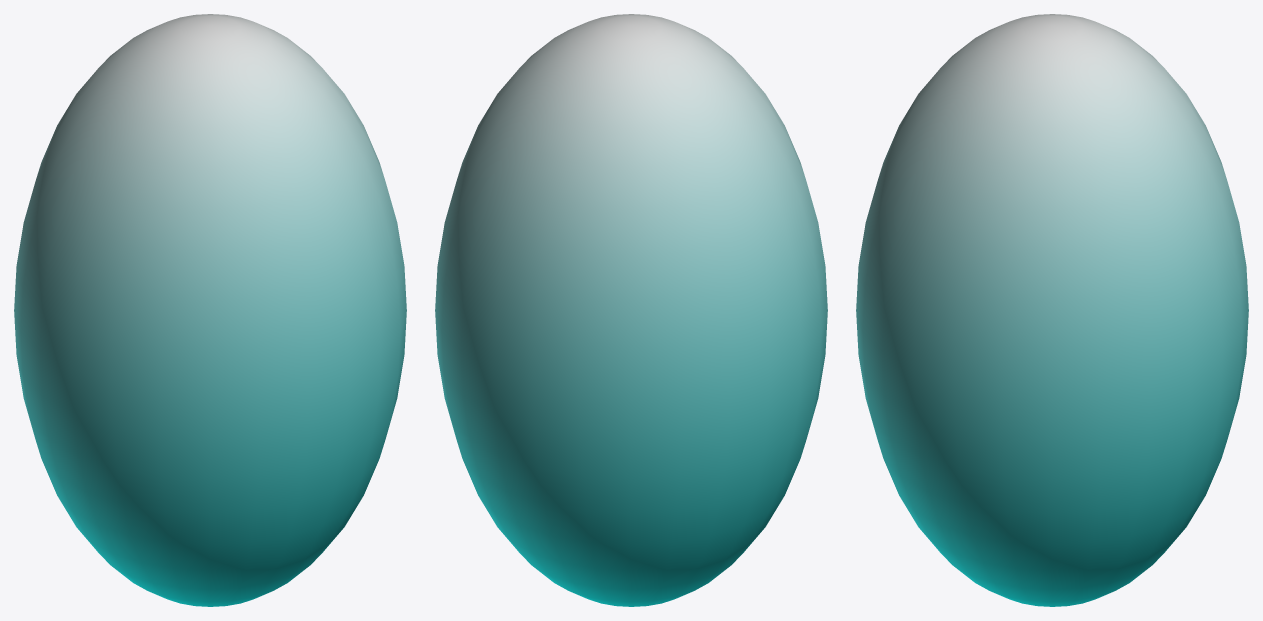
File: Egg.fbx
3 renders of one model, left to right at view 1: azimuth 30°, elevation 25°; view 2: azimuth 150°, elevation 25°; view 3: azimuth 270°, elevation 25°, orthographic.
Parts seen in each view (by area): view 1: Egg; view 2: Egg; view 3: Egg.
Boxes of the visible parts, <box> form: Egg: <box>14,14,406,606</box>; Egg: <box>435,14,827,606</box>; Egg: <box>856,14,1248,606</box>.
Bounding box in the file's own units: 1.25 × 2.01 × 1.25.
